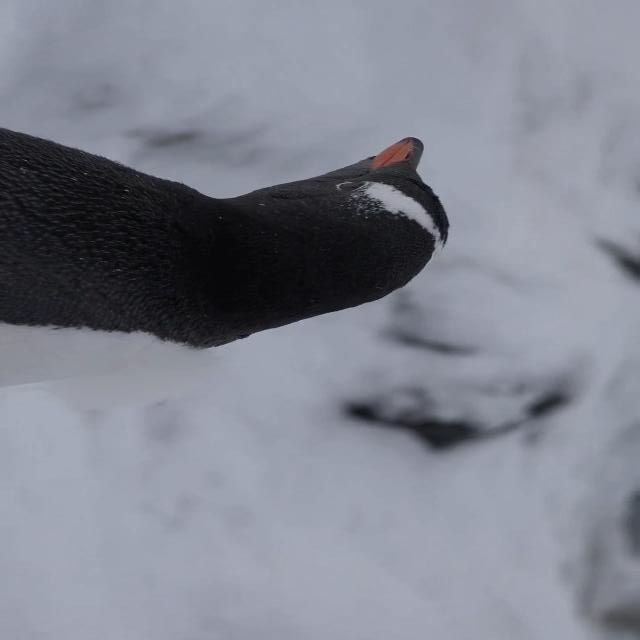penguin: (1, 128, 451, 393)
